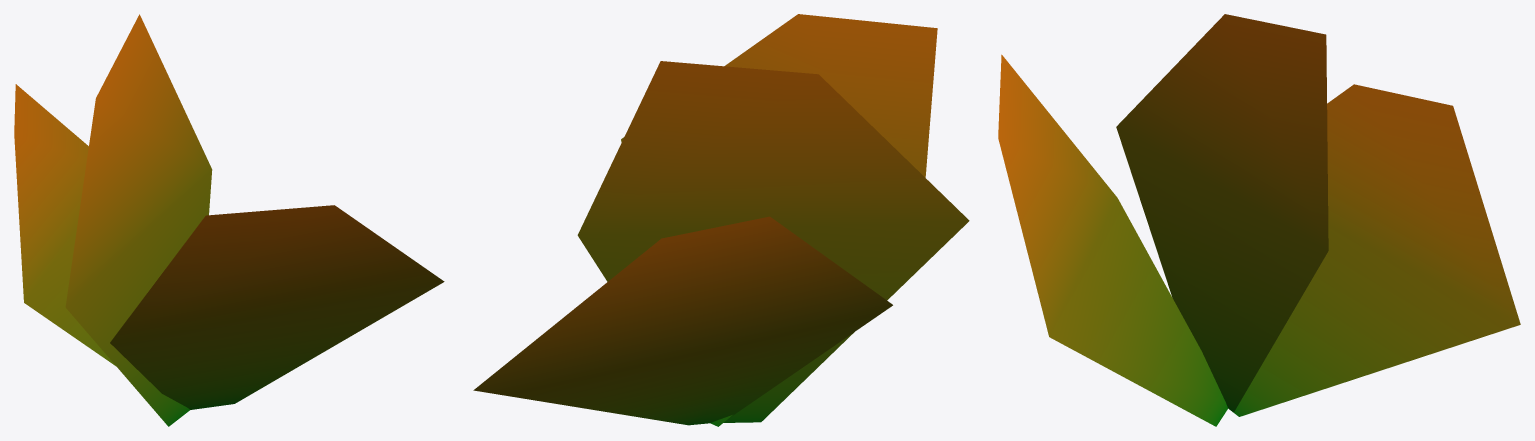
The model's file is Ocean Seaweed_LOD1_Var6_sdDgS.fbx.
3 renders of one model, left to right at view 1: azimuth 30°, elevation 25°; view 2: azimuth 150°, elevation 25°; view 3: azimuth 270°, elevation 25°, orthographic. The views are drawn at different scales.
Visible parts, largest first — view 1: merge1; view 2: merge1; view 3: merge1.
Boxes of the visible parts, x1,y1,x2,y2 form: merge1: (14, 14, 444, 426); merge1: (473, 14, 969, 426); merge1: (998, 14, 1520, 426).
Size of the model in its own units: 23.36 by 23.39 by 29.63.
